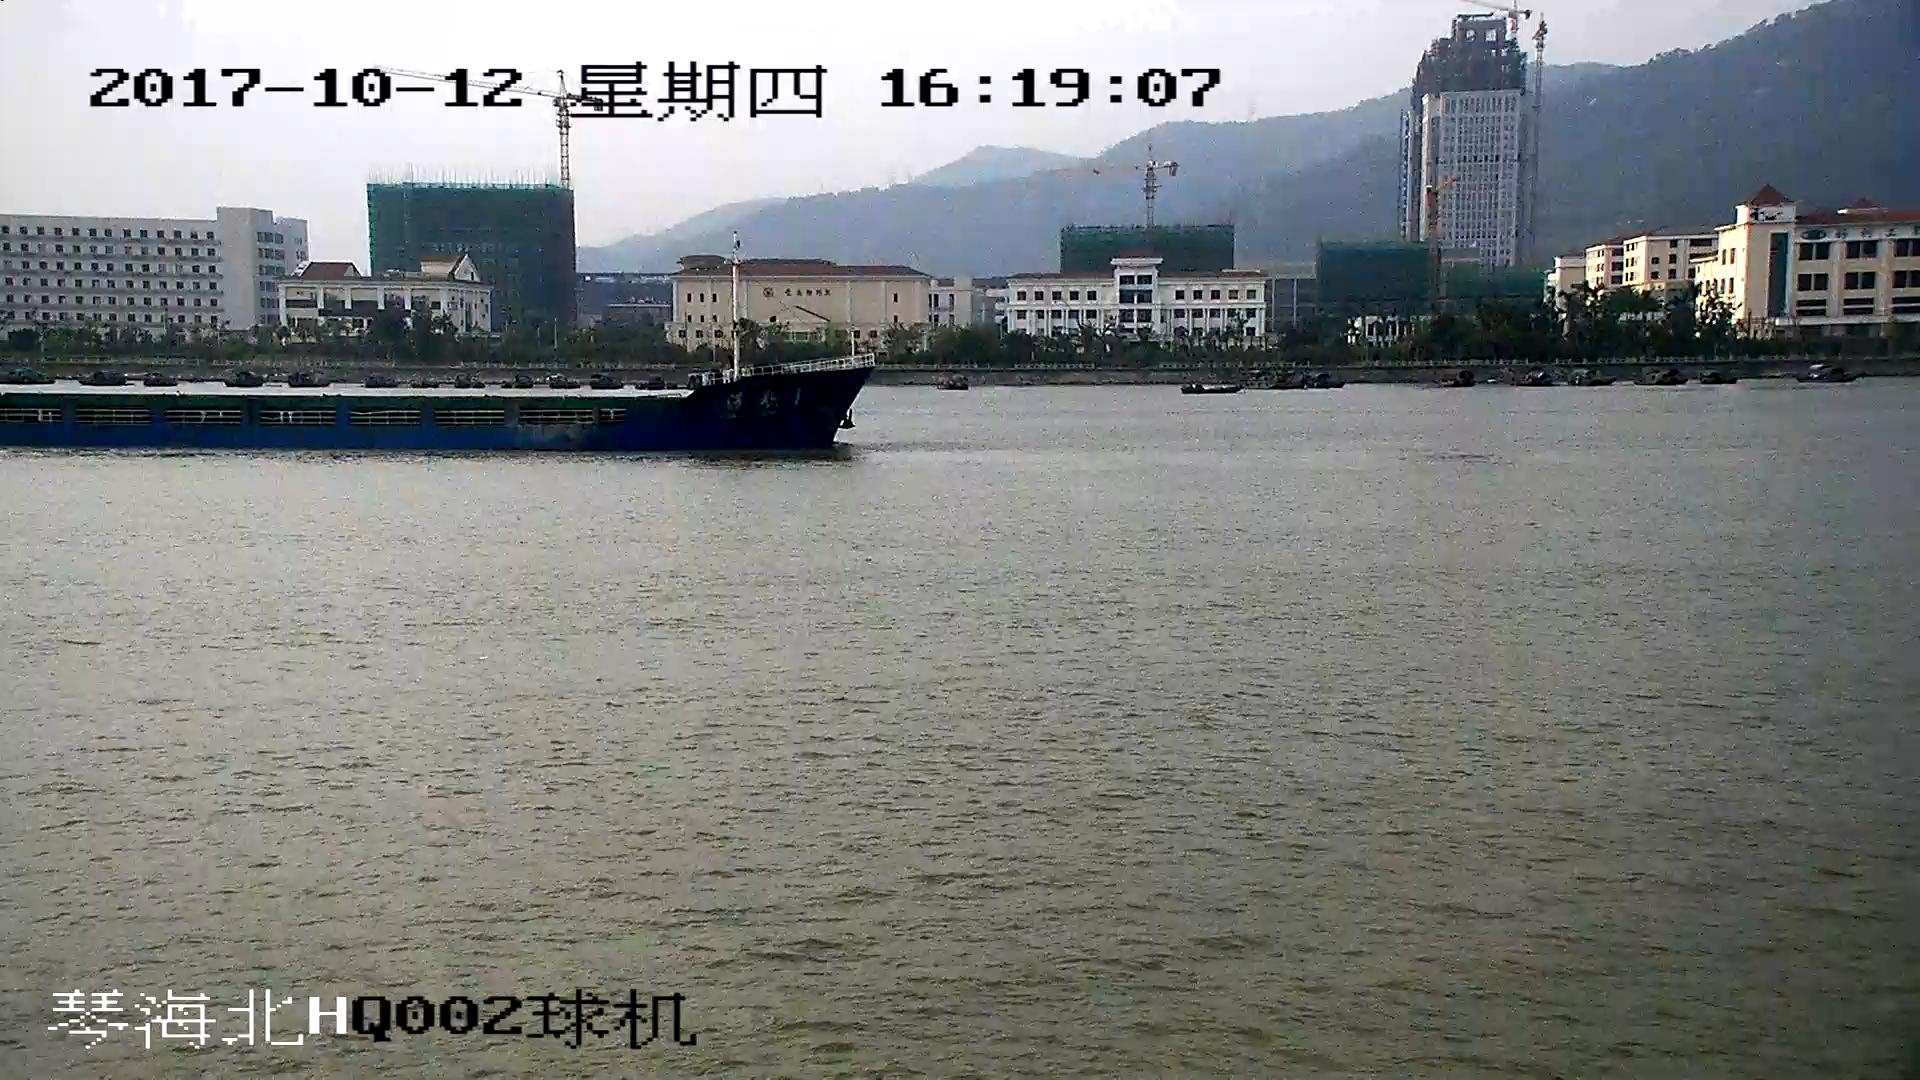general cargo ship: (1, 255, 861, 455)
